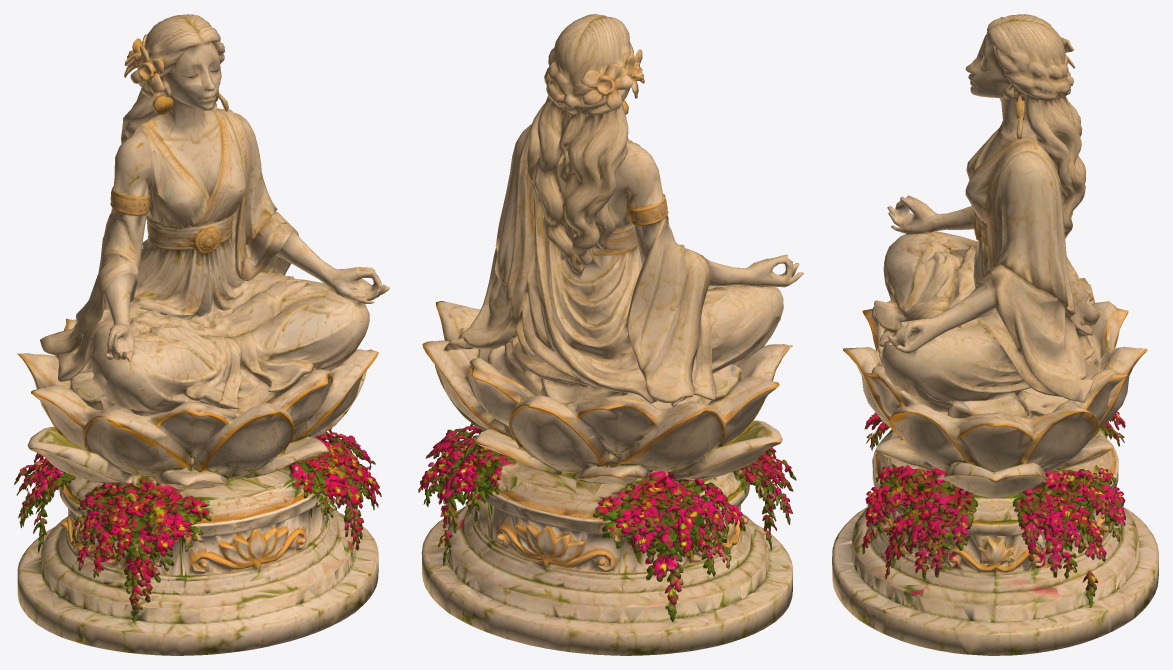
File: esc-loto.glb
3 renders of one model, left to right at view 1: azimuth 30°, elevation 25°; view 2: azimuth 150°, elevation 25°; view 3: azimuth 270°, elevation 25°, orthographic. The views are drawn at different scales.
Visible parts, largest first — view 1: Mesh_0; view 2: Mesh_0; view 3: Mesh_0.
Part boxes in pixels (x1,y1,x2,y2): Mesh_0: (14, 14, 389, 655); Mesh_0: (418, 14, 803, 655); Mesh_0: (832, 14, 1158, 655).
Bounding box in the file's own units: 1.21 × 1.9 × 1.01.
1 material, 1 textured.
